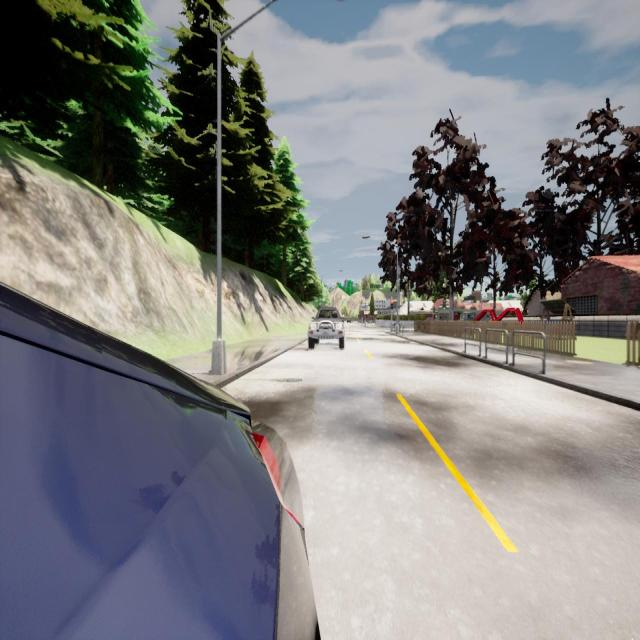Vehicle: (0, 283, 318, 638), (307, 308, 345, 350), (346, 318, 352, 324)
traffic_light: (390, 299, 394, 309)
